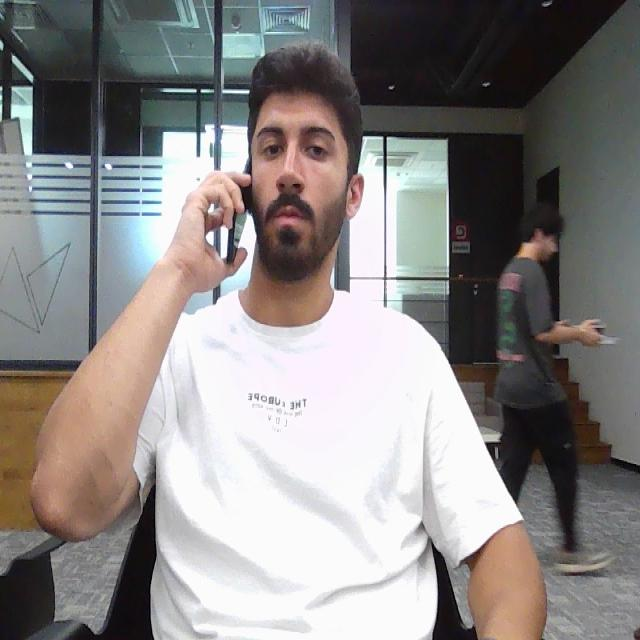phone: (222, 163, 252, 265)
